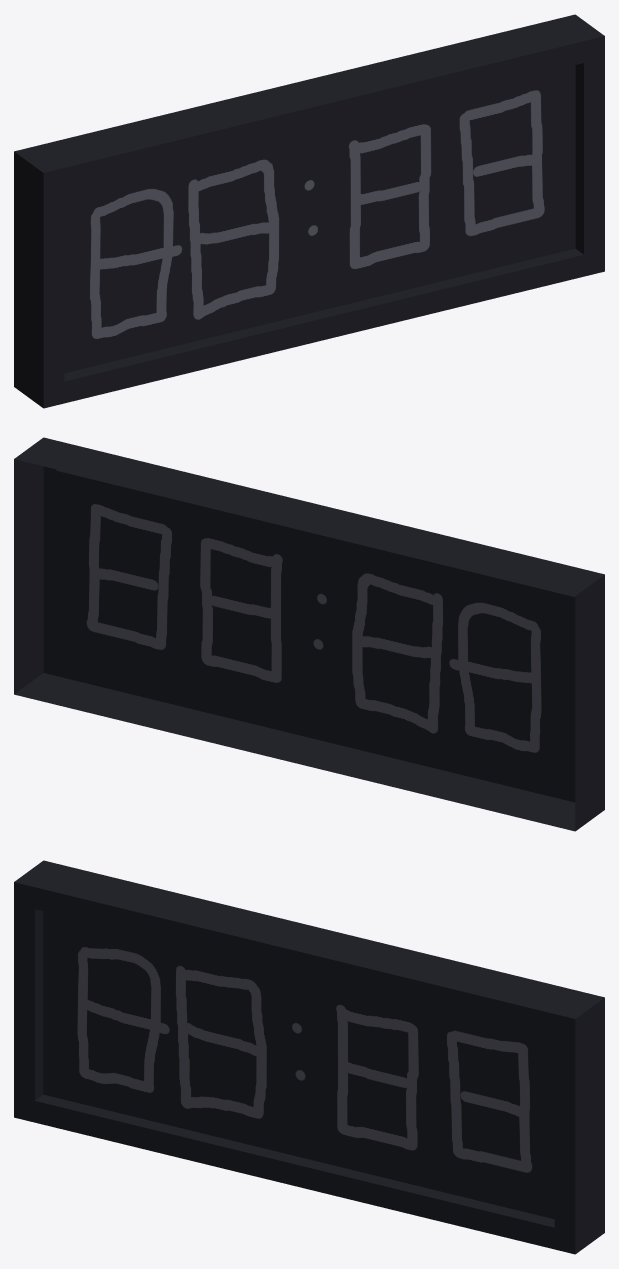
Rendered from broken_timer_liddisplay.glb.
The picture shows the model from 3 angles, top to bottom: view 1: azimuth 30°, elevation 25°; view 2: azimuth 150°, elevation 25°; view 3: azimuth 330°, elevation 25°; orthographic projection.
Parts seen in each view (by area): view 1: Broken Timer Display; view 2: Broken Timer Display; view 3: Broken Timer Display.
Part boxes in pixels (x1,y1,x2,y2): Broken Timer Display: [14, 14, 604, 408]; Broken Timer Display: [14, 437, 604, 831]; Broken Timer Display: [14, 860, 604, 1254].
Bounding box in the file's own units: 2.5 × 1 × 0.2278.
1 material, 1 textured.
